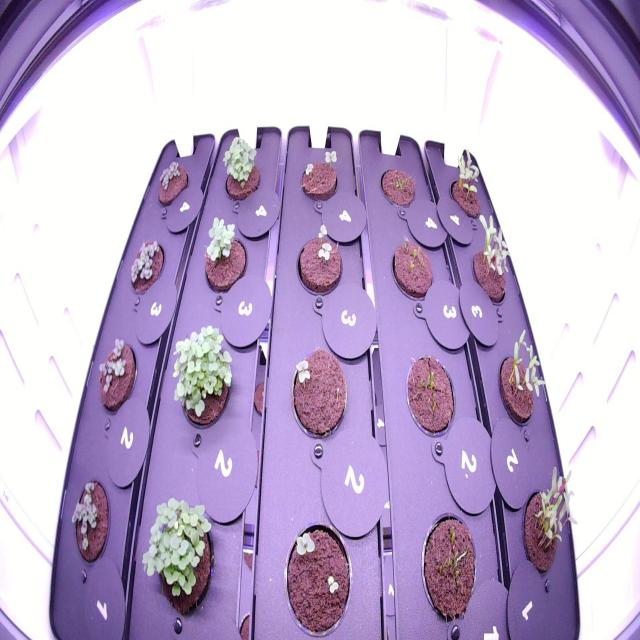germination: (136, 479, 221, 623), (278, 506, 362, 639), (514, 442, 580, 591), (162, 318, 242, 440), (413, 499, 483, 631), (283, 338, 355, 454), (494, 320, 554, 447), (399, 344, 464, 448), (64, 468, 116, 576), (464, 206, 514, 317), (288, 212, 347, 302), (197, 209, 249, 298), (440, 137, 488, 233), (91, 331, 140, 420), (385, 228, 436, 310), (217, 128, 265, 212), (293, 139, 347, 209), (125, 228, 170, 302), (150, 152, 193, 220), (374, 157, 422, 216)
